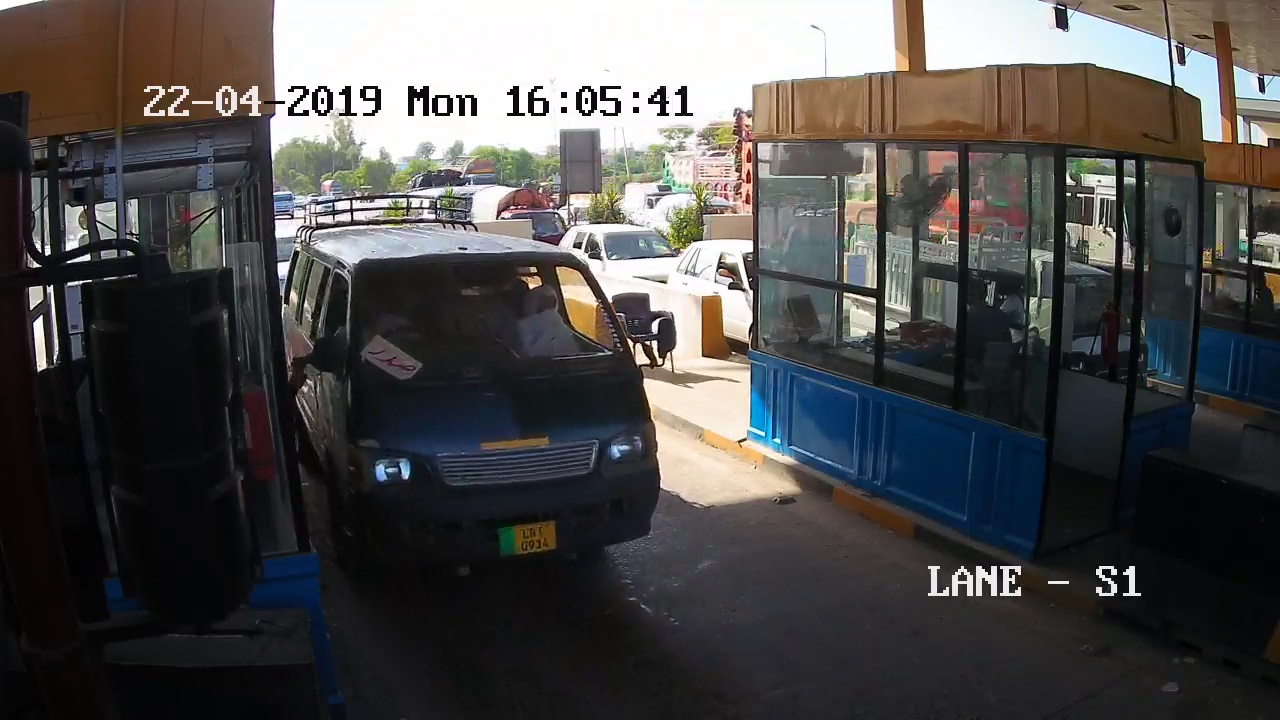Number Plate (Car): (499, 522, 559, 552)
